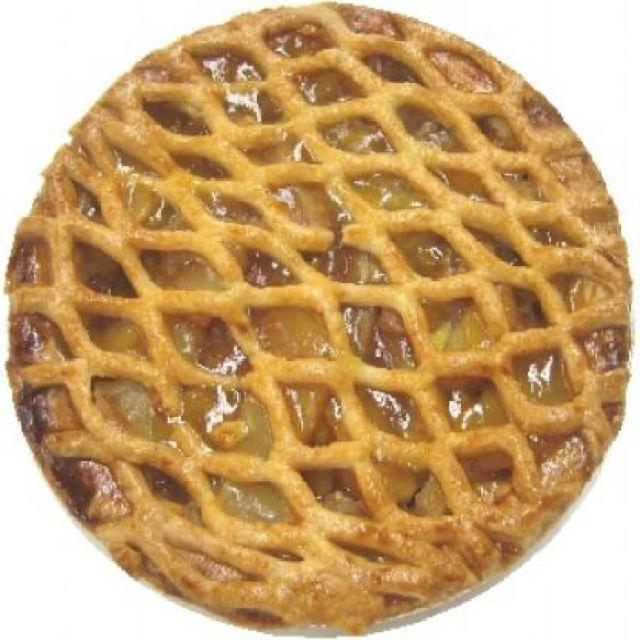Apple: (12, 2, 638, 630)
